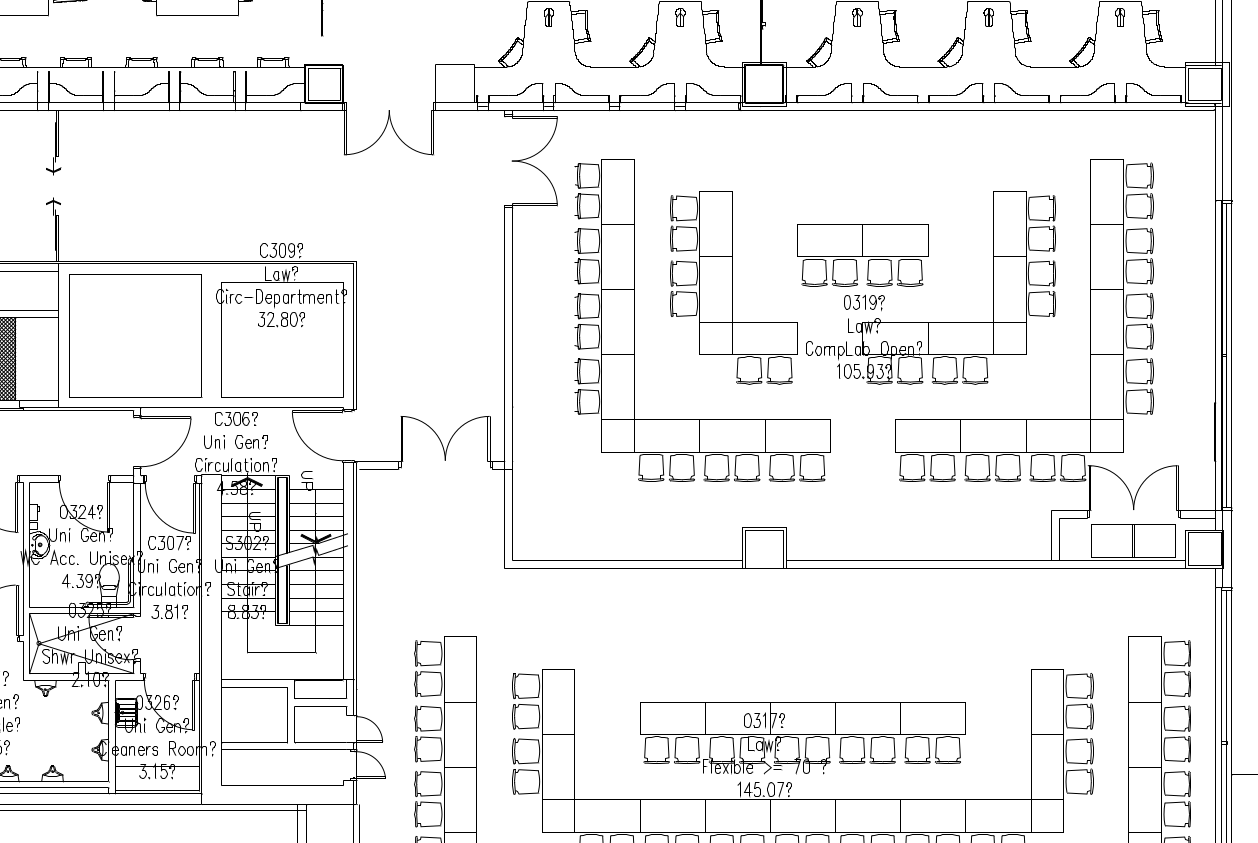door: (132, 410, 193, 471), (286, 408, 347, 469), (384, 408, 445, 469), (142, 671, 196, 735), (142, 473, 196, 537), (444, 408, 496, 472), (339, 97, 391, 161), (386, 101, 438, 165), (511, 113, 564, 167), (509, 159, 562, 213), (1086, 460, 1139, 514), (1129, 460, 1182, 514), (356, 707, 387, 748), (358, 747, 389, 788)
